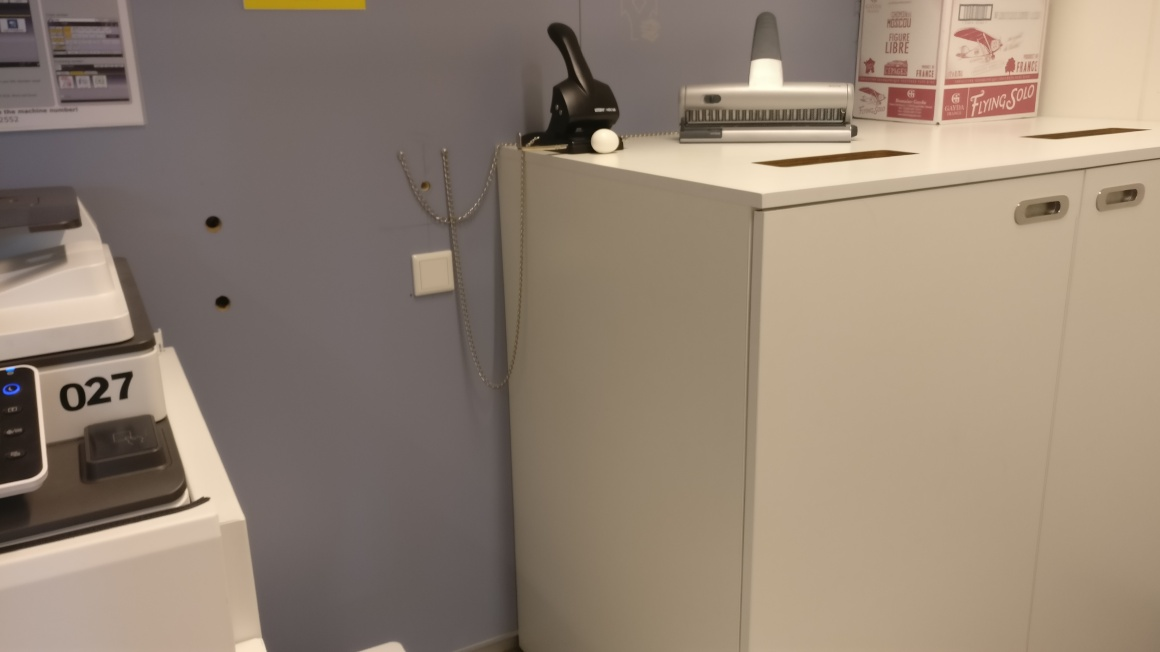egg: (589, 128, 620, 154)
